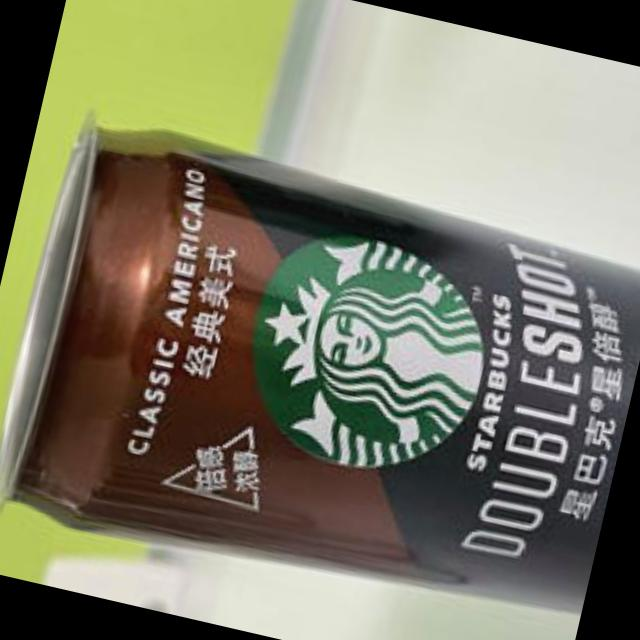metal: (0, 130, 640, 613)
